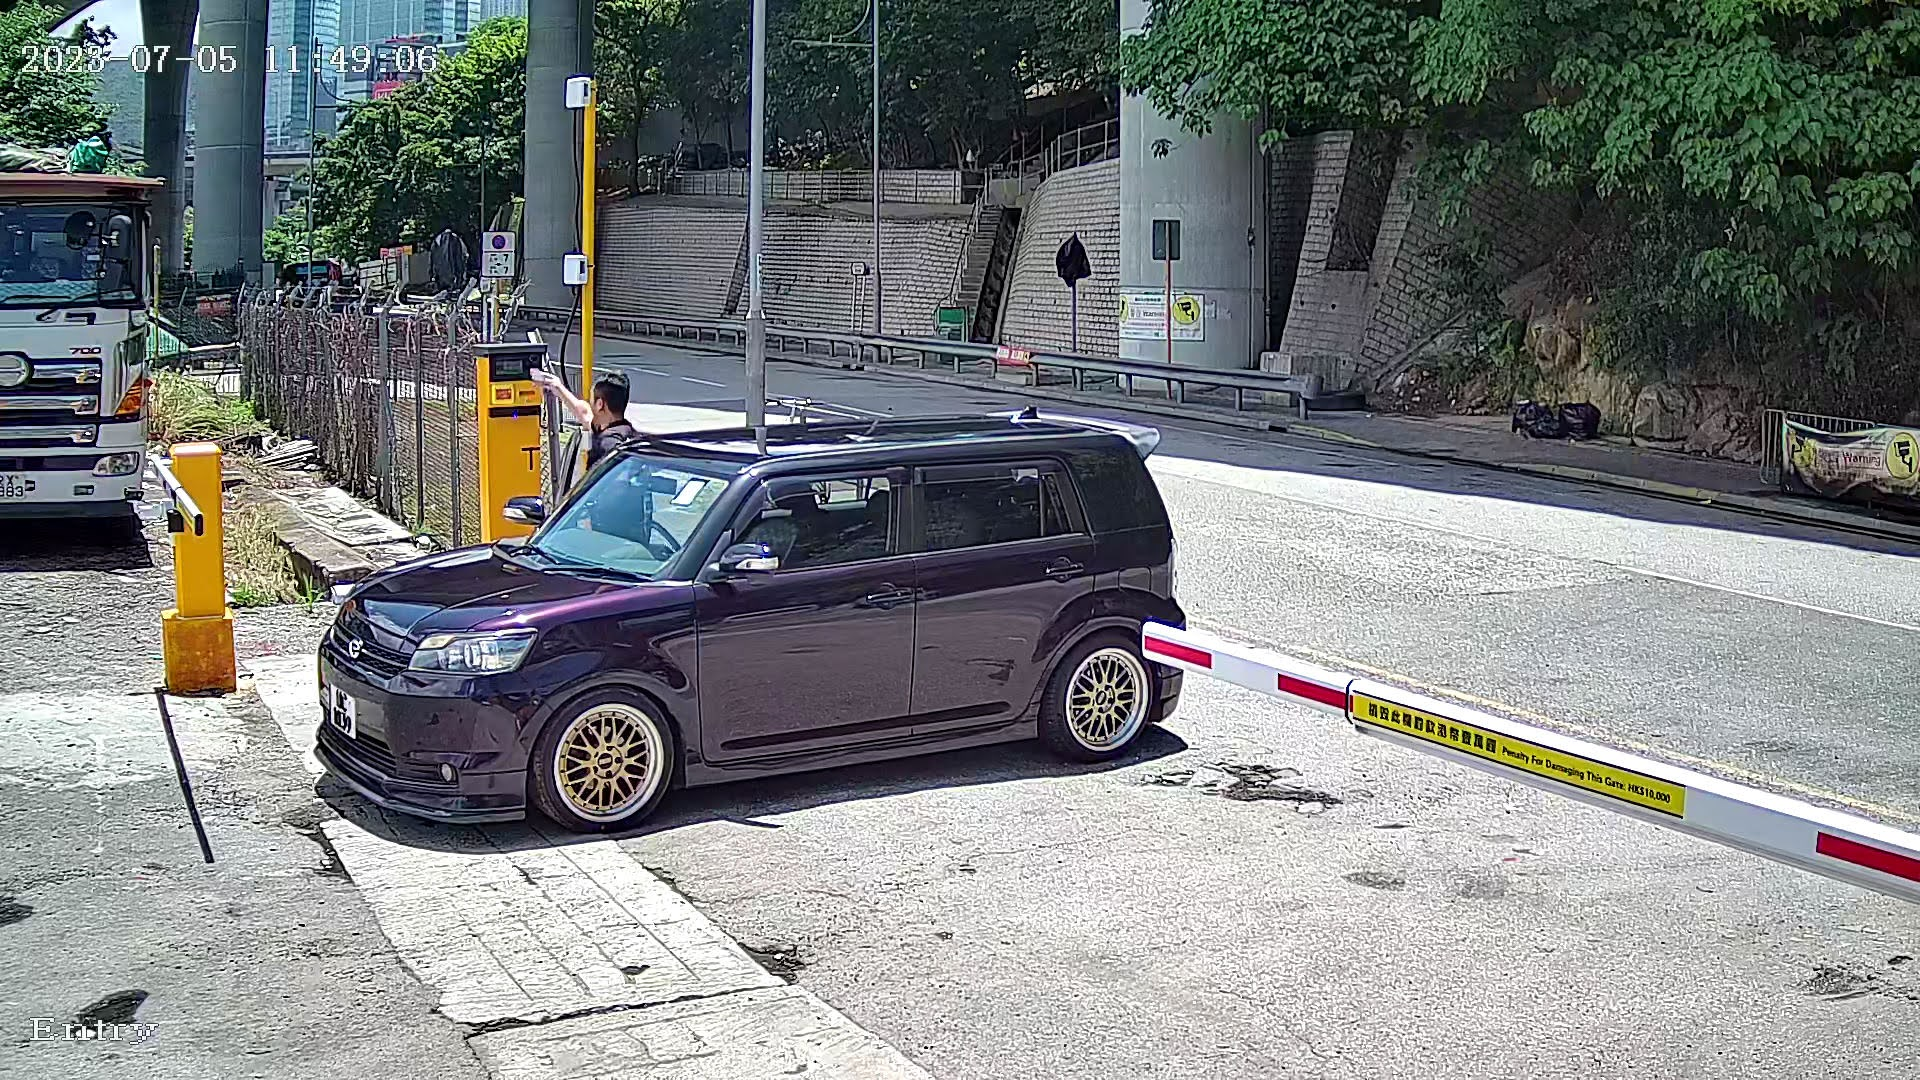privatecar: (269, 367, 1296, 948)
